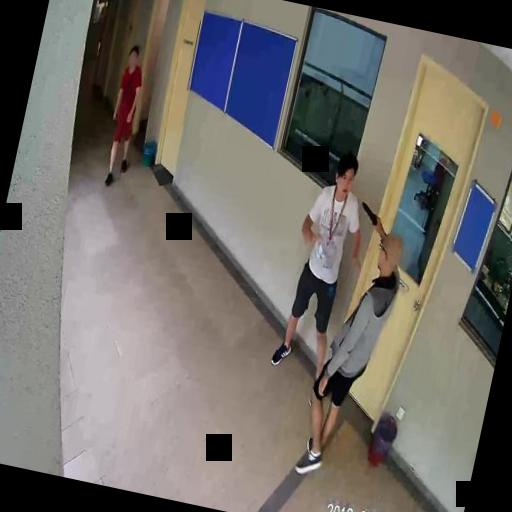Handgun: (356, 200, 382, 228)
